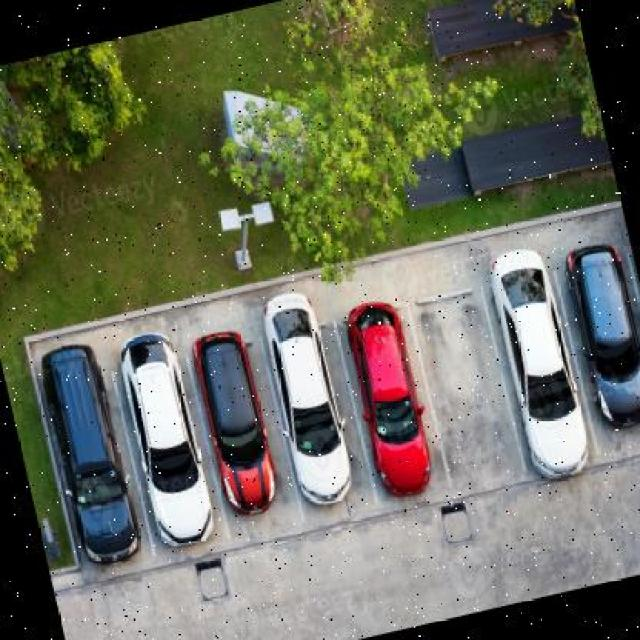Car: (481, 231, 601, 500), (33, 340, 149, 574), (117, 330, 228, 555), (343, 290, 452, 515), (258, 284, 362, 516), (189, 324, 286, 533), (555, 243, 640, 441)
Empty: (406, 274, 529, 511)
